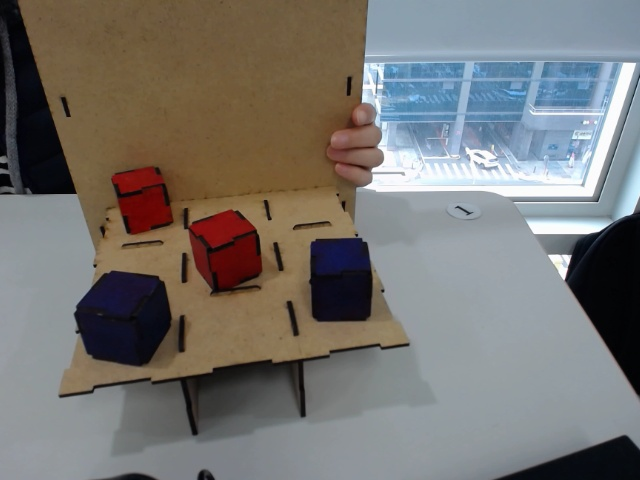blue: (72, 270, 172, 368), (308, 237, 374, 323)
red: (190, 211, 262, 289), (112, 168, 172, 234)
